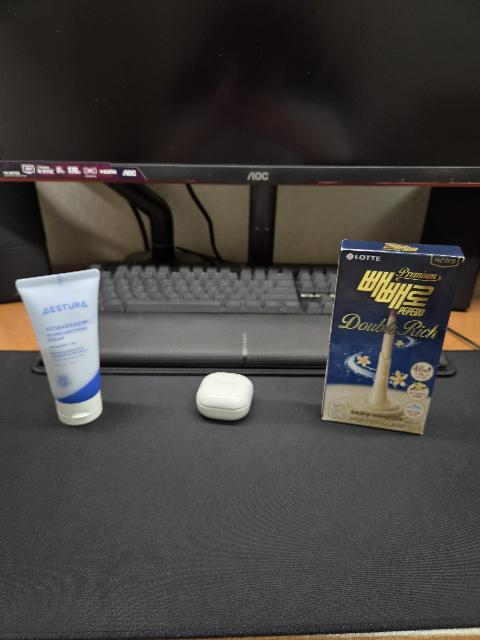earphone_case: (196, 372, 254, 420)
handcream: (15, 268, 103, 426)
pepero: (321, 239, 466, 435)
